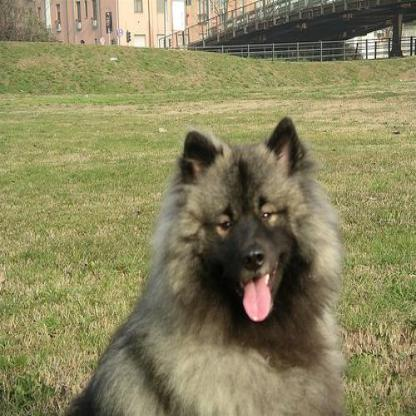keeshond: (63, 113, 353, 413)
